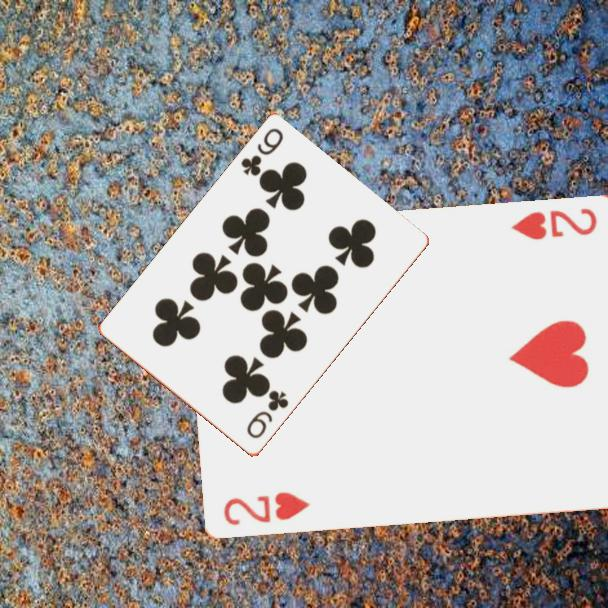c09: (237, 125, 287, 180), (243, 387, 292, 442)
h02: (220, 487, 313, 528), (508, 204, 601, 243)
